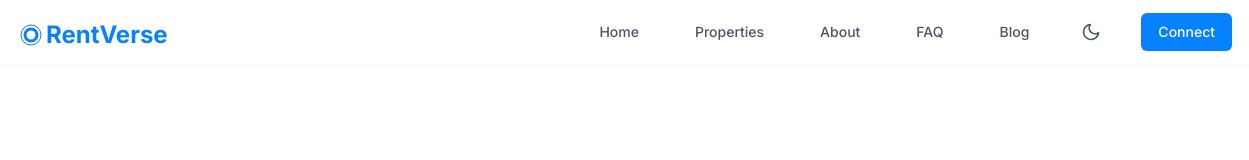
Test: shows wallet error -32002 and allows retry
Click the button "Connect".
click(1187, 32)  # box [1141,13,1232,51]
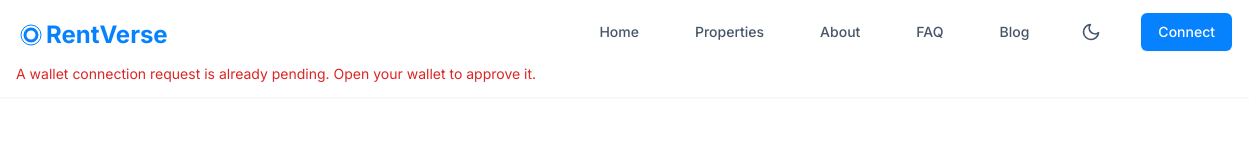
Now the message shows "already pending", box [16,65,536,82]
